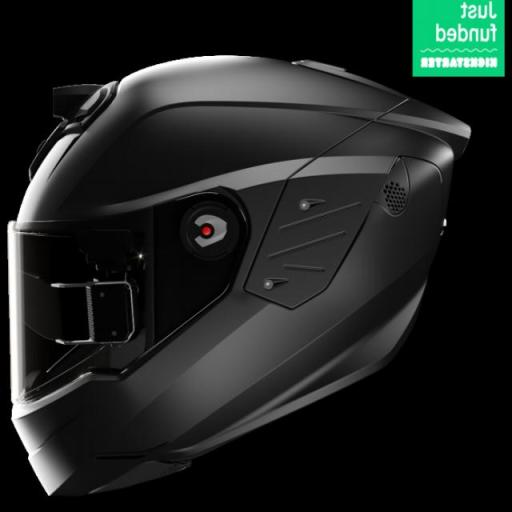Helmet: (9, 57, 469, 494)
